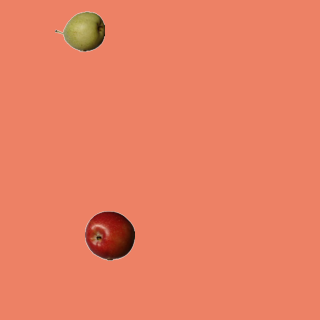Apple Braeburn: (84, 210, 134, 260)
Pear: (54, 6, 104, 56)
